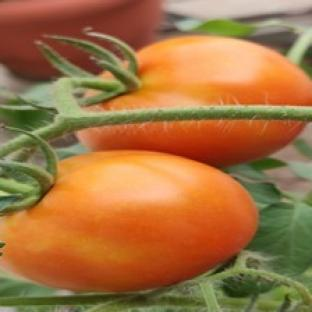Tomato: (0, 151, 257, 292), (91, 37, 311, 111)
